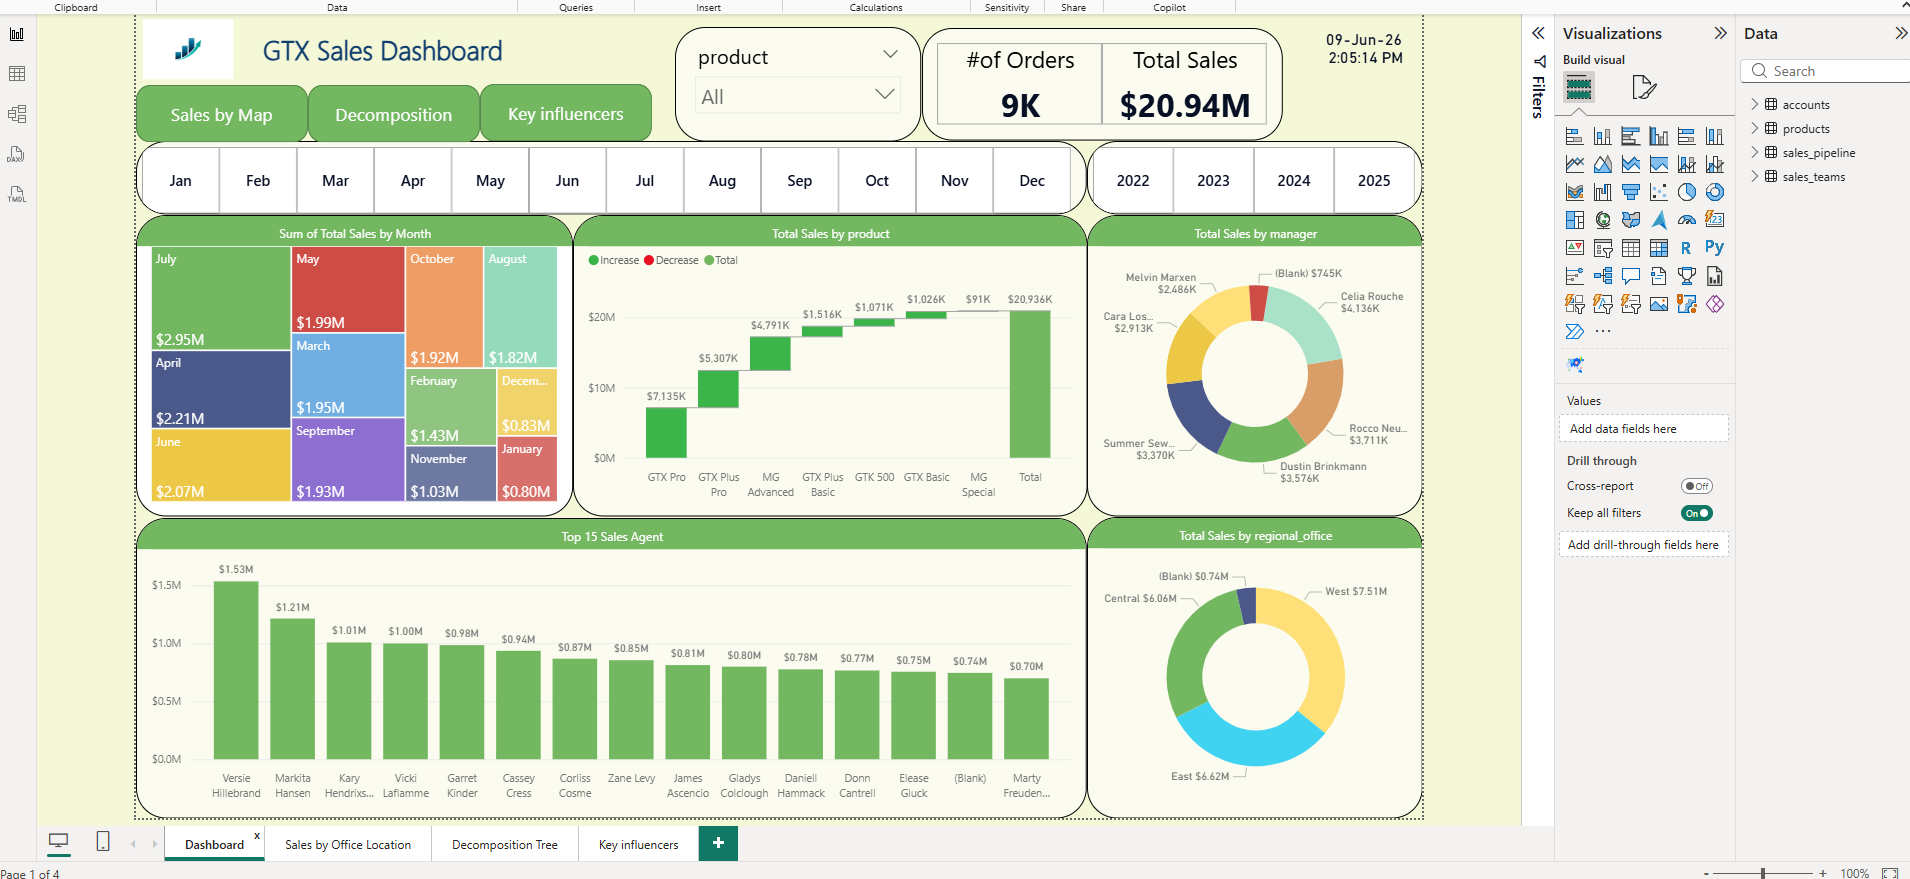

The dashboard page shown, as its layout file describes it:
{"tool":"powerbi","page":{"name":"Dashboard","canvas":[1280,800],"ordinal":0},"visuals":[{"type":"cardVisual","title":"Total Amount","fields":{"Data":["sales_pipeline.#of Orders","Sum(sales_pipeline.sales_price)"]},"box":[781.7,14.4,359,111.7],"z":0},{"type":"donutChart","fields":{"Category":["sales_teams.manager"],"Y":["Sum(sales_pipeline.Total Sales)"]},"box":[946.3,199.8,334.1,300.2],"z":1000},{"type":"donutChart","fields":{"Category":["sales_teams.regional_office"],"Y":["Sum(sales_pipeline.Total Sales)"]},"box":[946.3,500,334.1,300.2],"z":2000},{"type":"advancedSlicerVisual","title":"Filter by Year","fields":{"Values":["sales_pipeline.Year"]},"box":[946.3,126.4,334.1,73],"z":3000},{"type":"advancedSlicerVisual","title":"Filter by Month","fields":{"Values":["sales_pipeline.Month Name"]},"box":[0,126.4,946.3,73],"z":4000},{"type":"waterfallChart","fields":{"Category":["products.product"],"Y":["Sum(sales_pipeline.Total Sales)"]},"box":[434.6,199.8,511.7,300.2],"z":5000},{"type":"image","box":[0,0,103.7,70],"z":6000},{"type":"textbox","box":[103.7,12.4,284.6,49.7],"z":7000},{"type":"treemap","fields":{"Group":["sales_pipeline.order_date.Variation.Date Hierarchy.Month"],"Values":["Sum(sales_pipeline.Total Sales)"]},"box":[0,199.8,434.6,300.2],"z":8000},{"type":"card","fields":{"Values":["accounts.DateTime"]},"box":[1167.1,0,113.3,70.1],"z":9000},{"type":"clusteredColumnChart","title":"Top 15 Sales Agent","fields":{"Y":["Sum(sales_pipeline.Total Sales)"],"Category":["sales_teams.sales_agent"]},"box":[0,501.2,946.3,299.1],"z":10000},{"type":"slicer","fields":{"Values":["products.product"]},"box":[536.7,13.2,245,114.1],"z":11000},{"type":"shape","box":[171.1,71,171.1,57],"z":12000},{"type":"shape","box":[0,71,171.1,57],"z":13000},{"type":"shape","box":[342.3,69.6,171.1,57],"z":14000}]}

Visuals, with their boxes on the page's 1280x800 design canvas (x1, y1, x2, y2). These are canvas units, not pixel positions in the 1910x879 screenshot, which may show the page scaled, cropped or inside an application window:
"Total Amount" cardVisual: 782,14,1141,126
donutChart - sales_teams.manager x Sum(sales_pipeline.Total Sales): 946,200,1280,500
donutChart - sales_teams.regional_office x Sum(sales_pipeline.Total Sales): 946,500,1280,800
"Filter by Year" advancedSlicerVisual: 946,126,1280,199
"Filter by Month" advancedSlicerVisual: 0,126,946,199
waterfallChart - products.product x Sum(sales_pipeline.Total Sales): 435,200,946,500
image: 0,0,104,70
textbox: 104,12,388,62
treemap - sales_pipeline.order_date.Variation.Date Hierarchy.Month x Sum(sales_pipeline.Total Sales): 0,200,435,500
card - accounts.DateTime: 1167,0,1280,70
"Top 15 Sales Agent" clusteredColumnChart: 0,501,946,800
slicer - products.product: 537,13,782,127
shape: 171,71,342,128
shape: 0,71,171,128
shape: 342,70,513,127
